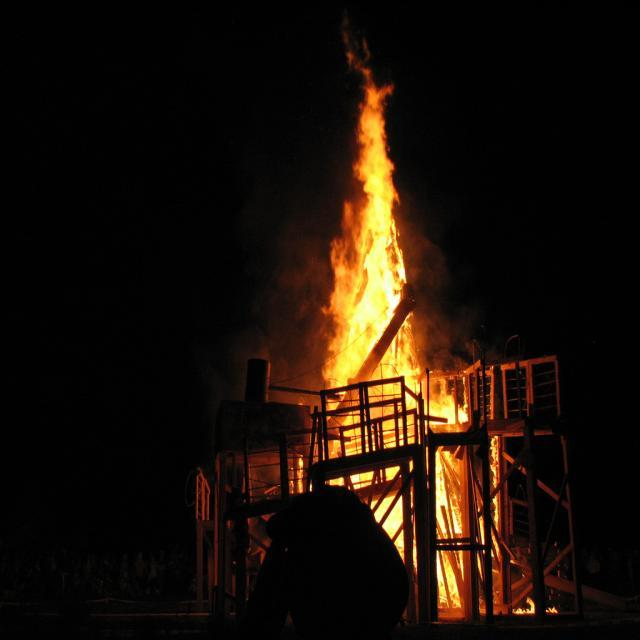Fire: (331, 91, 394, 412)
